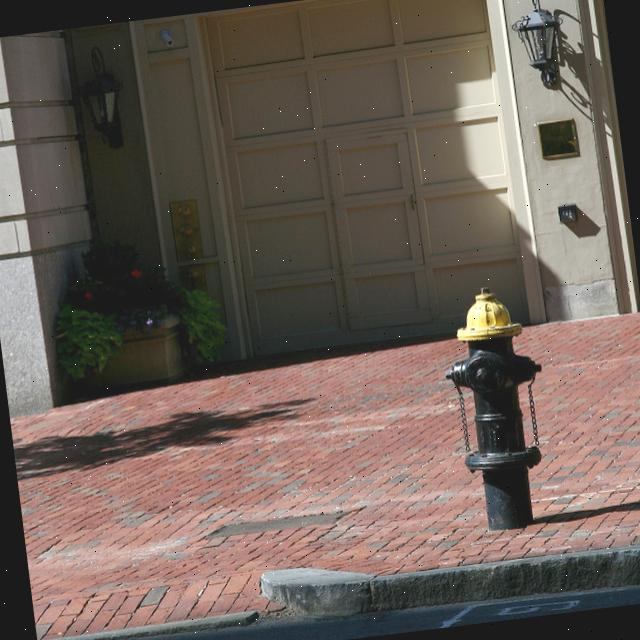fire_hydrant: (436, 278, 559, 536)
